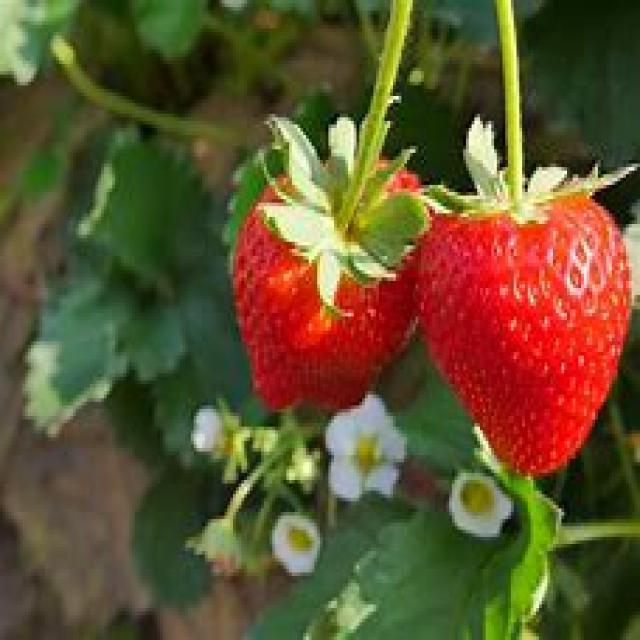Berries strawberries/blueberries: (423, 193, 632, 477), (233, 160, 422, 411)
